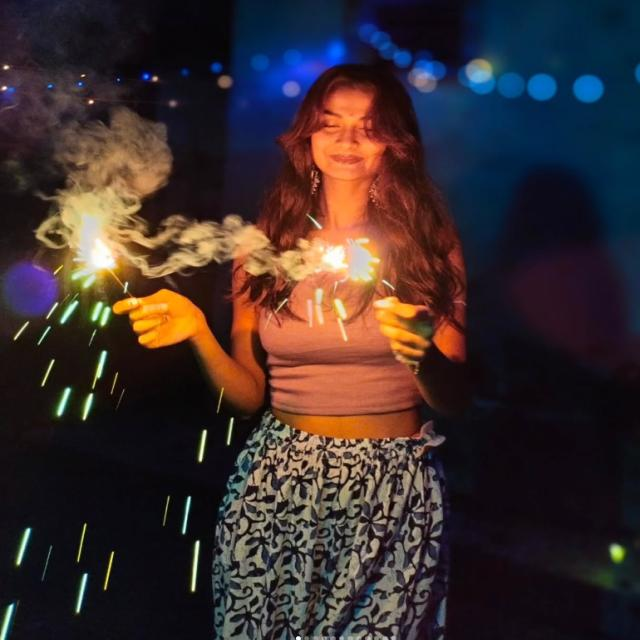fire: (77, 215, 115, 289), (324, 240, 382, 282)
